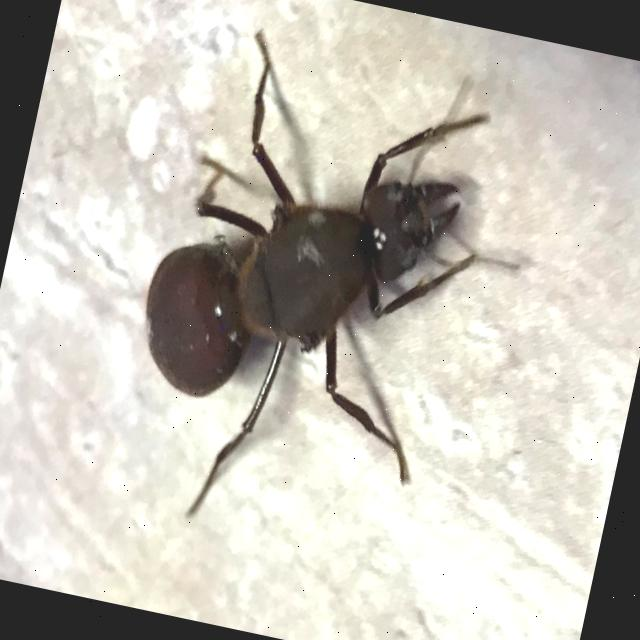Alive-Female-Dealate: (103, 18, 556, 574)
